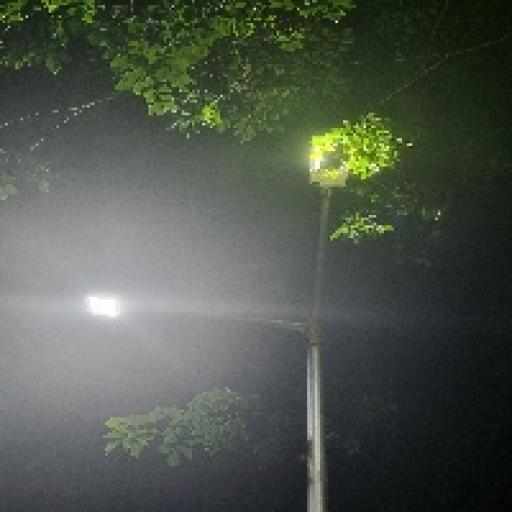Working: (72, 290, 137, 330)
